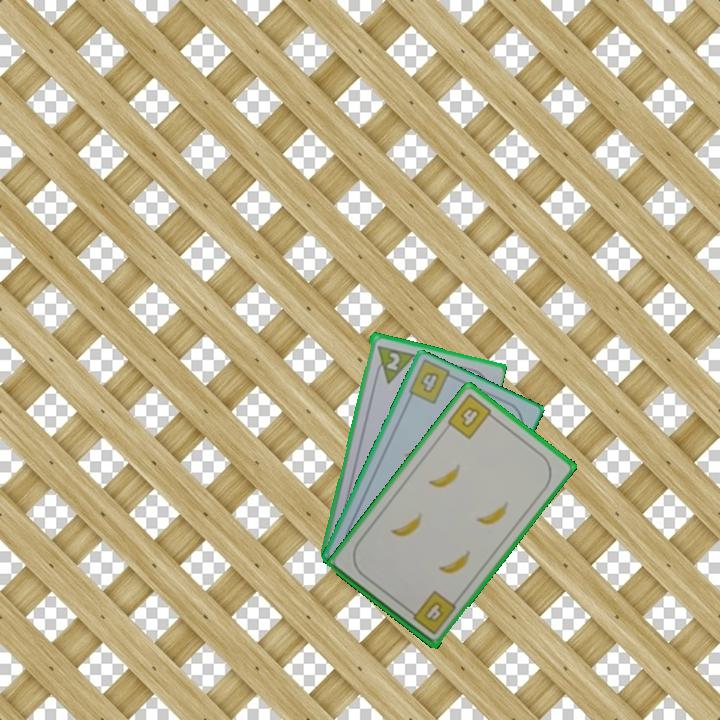2p: (383, 348, 403, 373)
4b: (444, 390, 499, 442), (404, 587, 459, 638), (417, 368, 442, 396)
